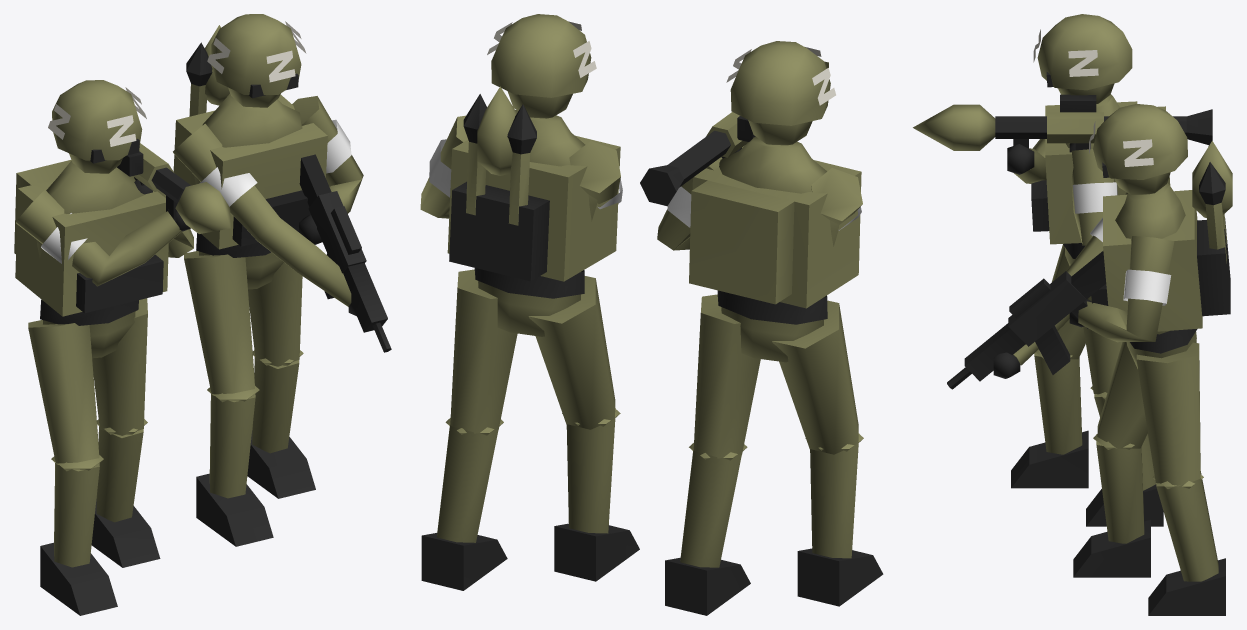
The model's file is ru-rpg-gunner.glb.
3 views of the same model, side by side, from view 1: azimuth 30°, elevation 25°; view 2: azimuth 150°, elevation 25°; view 3: azimuth 270°, elevation 25° (orthographic). The views are drawn at different scales.
Parts seen in each view (by area): view 1: limb_g_hips, limb_a_hips, limb_a_arms, limb_g_arms, limb_g_thigh_l, limb_a_thigh_l, limb_g_shin_l, limb_a_shin_l, limb_a_shin_r, limb_g_shin_r, limb_g_thigh_r, limb_a_thigh_r (+2 smaller); view 2: limb_g_hips, limb_a_hips, limb_a_shin_r, limb_g_shin_r, limb_g_shin_l, limb_a_shin_l, limb_a_thigh_r, limb_a_thigh_l, limb_g_thigh_l, limb_g_thigh_r, limb_g_arms, limb_a_arms (+1 smaller); view 3: limb_a_hips, limb_a_arms, limb_g_hips, limb_g_arms, limb_a_thigh_r, limb_a_shin_r, limb_a_shin_l, limb_g_shin_l, limb_a_thigh_l, limb_g_round, limb_g_shin_r, limb_g_thigh_r (+2 smaller).
Boxes of the visible parts, left/top/right/bottom form: limb_g_hips: left=14, top=80, right=168, bottom=358; limb_a_hips: left=173, top=14, right=327, bottom=289; limb_a_arms: left=173, top=96, right=391, bottom=352; limb_g_arms: left=16, top=143, right=193, bottom=286; limb_g_thigh_l: left=28, top=320, right=103, bottom=471; limb_a_thigh_l: left=184, top=251, right=259, bottom=402; limb_g_shin_l: left=40, top=463, right=117, bottom=615; limb_a_shin_l: left=196, top=394, right=273, bottom=546; limb_a_shin_r: left=247, top=357, right=315, bottom=498; limb_g_shin_r: left=91, top=426, right=160, bottom=567; limb_g_thigh_r: left=92, top=298, right=147, bottom=435; limb_a_thigh_r: left=248, top=262, right=303, bottom=366; limb_g_hips: left=689, top=41, right=861, bottom=362; limb_a_hips: left=447, top=14, right=620, bottom=336; limb_a_shin_r: left=421, top=425, right=507, bottom=590; limb_g_shin_r: left=665, top=450, right=750, bottom=615; limb_g_shin_l: left=797, top=442, right=883, bottom=606; limb_a_shin_l: left=554, top=408, right=639, bottom=581; limb_a_thigh_r: left=445, top=269, right=517, bottom=435; limb_a_thigh_l: left=528, top=276, right=620, bottom=429; limb_g_thigh_l: left=772, top=300, right=863, bottom=454; limb_g_thigh_r: left=689, top=294, right=760, bottom=460; limb_g_arms: left=640, top=112, right=862, bottom=250; limb_a_arms: left=420, top=115, right=622, bottom=218; limb_a_hips: left=1089, top=104, right=1230, bottom=368; limb_a_arms: left=947, top=192, right=1174, bottom=389; limb_g_hips: left=1031, top=14, right=1170, bottom=265; limb_g_arms: left=995, top=94, right=1212, bottom=245; limb_a_thigh_r: left=1136, top=342, right=1203, bottom=488; limb_a_shin_r: left=1148, top=471, right=1225, bottom=615; limb_a_shin_l: left=1073, top=434, right=1150, bottom=577; limb_g_shin_l: left=1011, top=352, right=1088, bottom=488; limb_a_thigh_l: left=1093, top=342, right=1147, bottom=449; limb_g_round: left=913, top=104, right=995, bottom=150; limb_g_shin_r: left=1086, top=394, right=1163, bottom=526; limb_g_thigh_r: left=1083, top=296, right=1122, bottom=399.
Size of the model in its own units: 0.4056 by 0.5089 by 0.3092.
